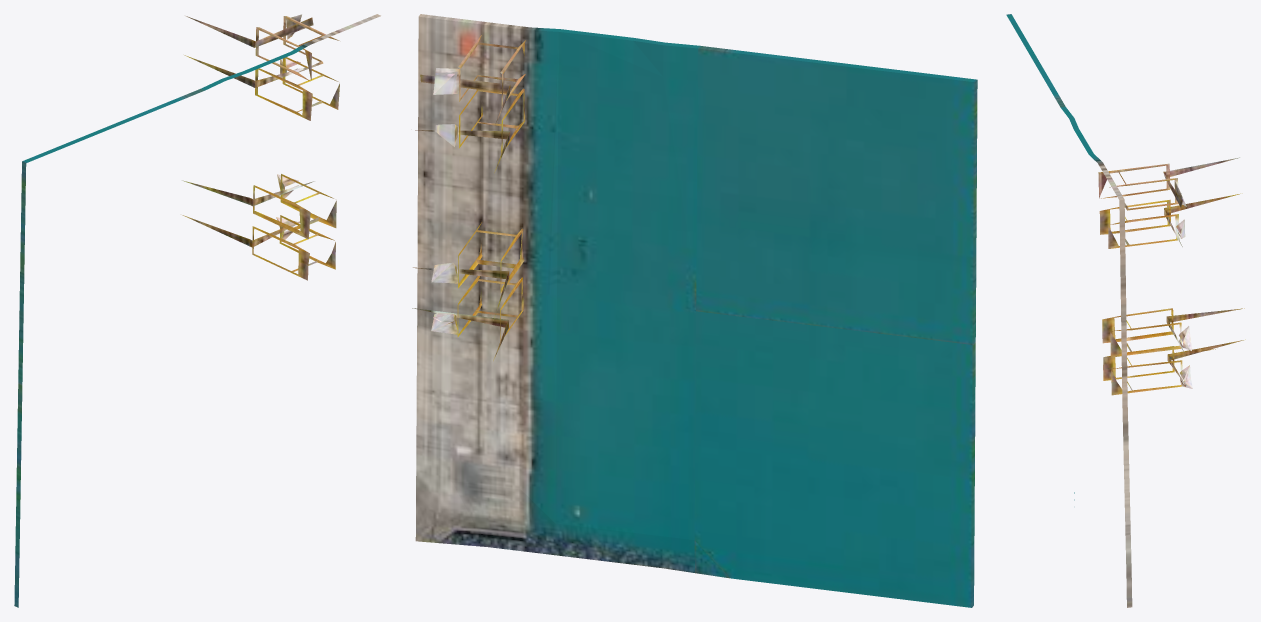
File: tile_203.glb
The picture shows the model from 3 angles, left to right: view 1: azimuth 30°, elevation 25°; view 2: azimuth 150°, elevation 25°; view 3: azimuth 270°, elevation 25°; orthographic projection. The views are drawn at different scales.
Size of the model in its own units: 299 by 304 by 162.
1 material, 1 textured.
